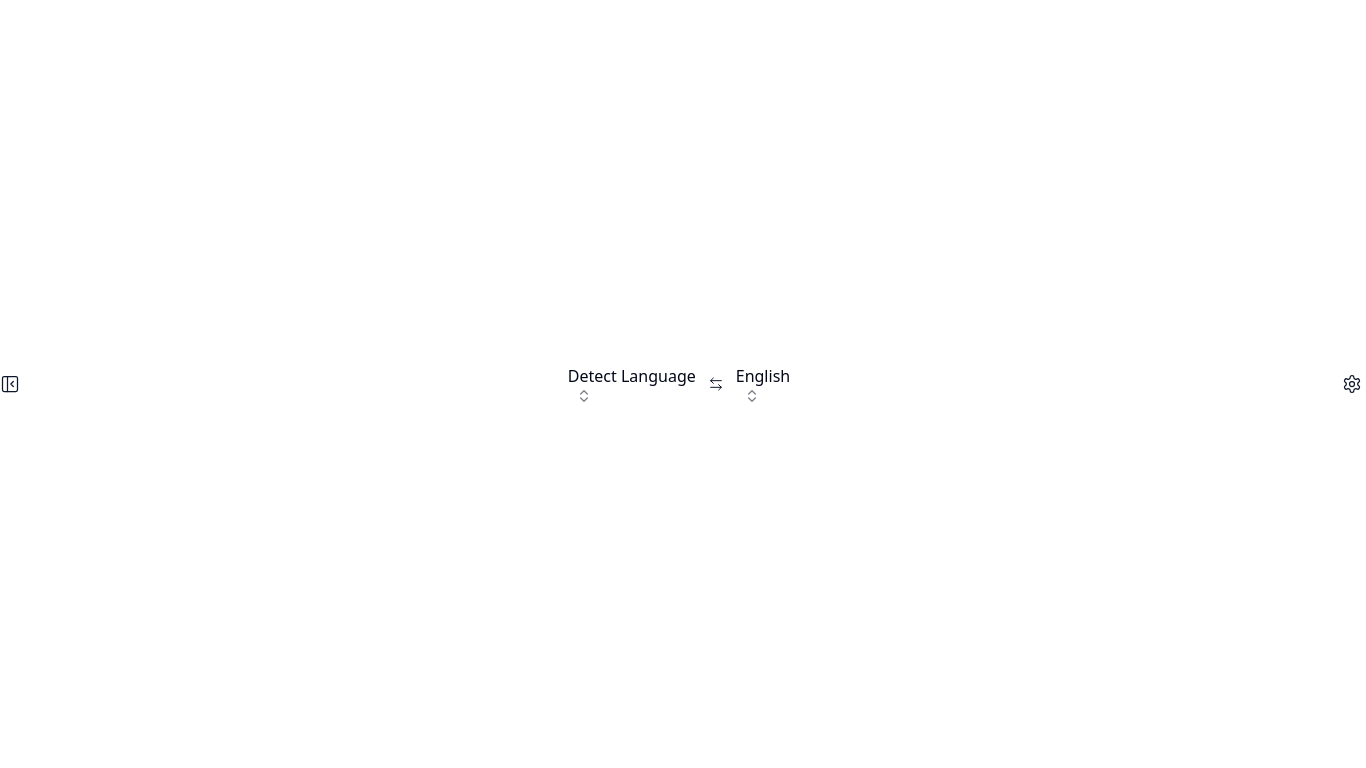
Test case: Testing dialoging interface › check texts
Click the button with test id "button-settings".
click(1352, 384)  # box [1338,364,1365,404]
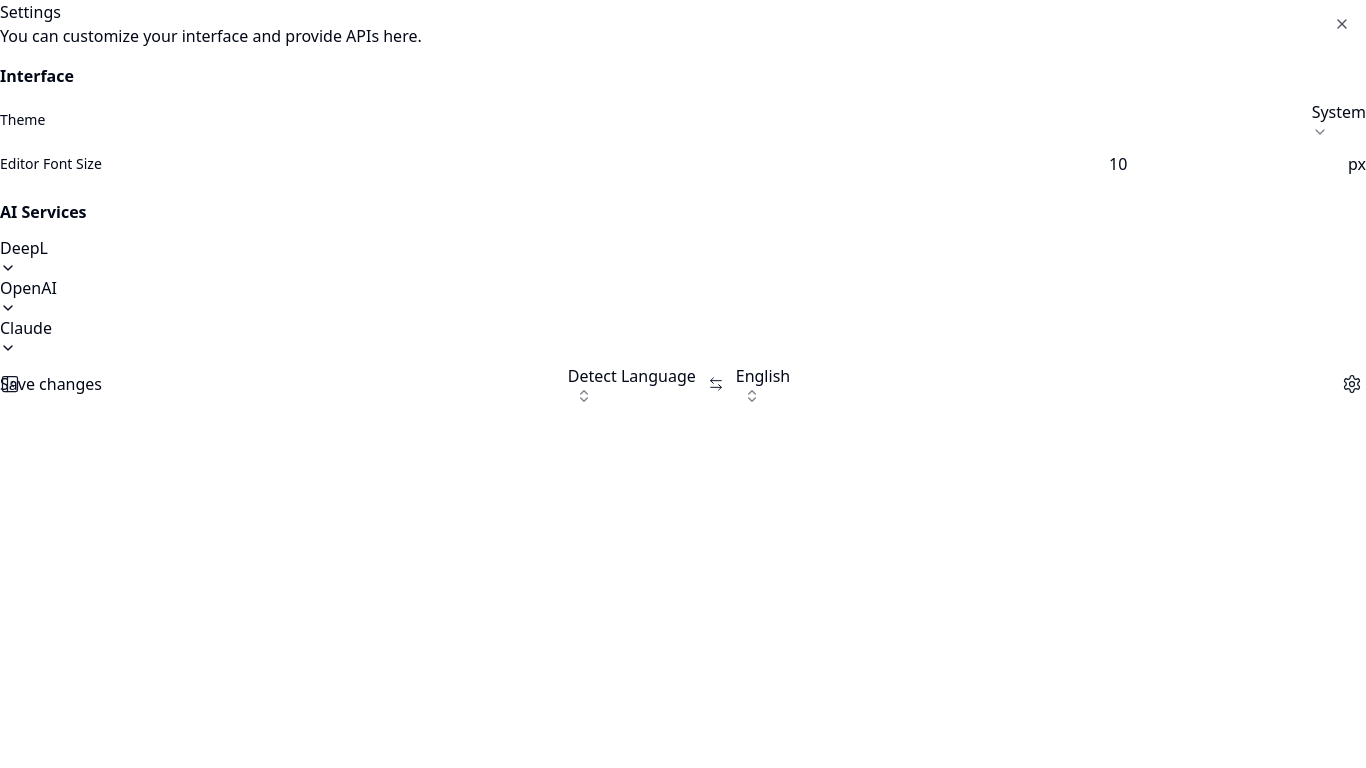
Expected: the heading "Settings" is shown, [0,1,61,23]
Expected: the heading "Interface" is shown, [0,65,74,87]
Expected: the text "Theme" is shown, [0,110,45,130]
